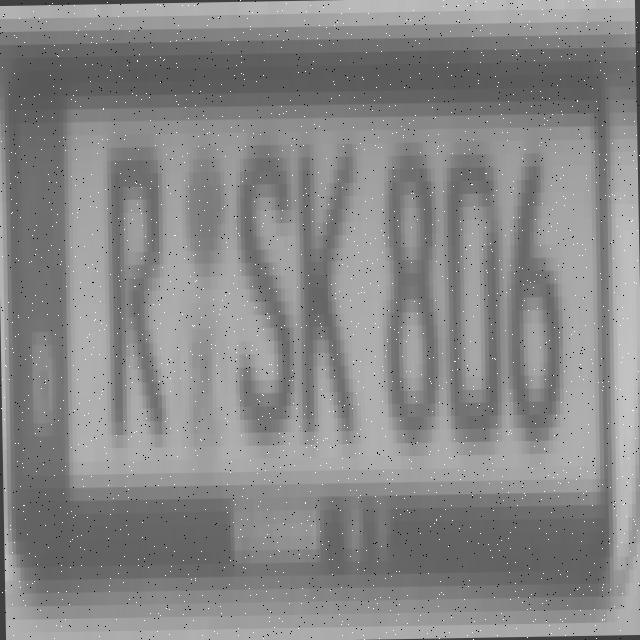Allemagne: (5, 102, 70, 492)
EU: (4, 86, 608, 538)
